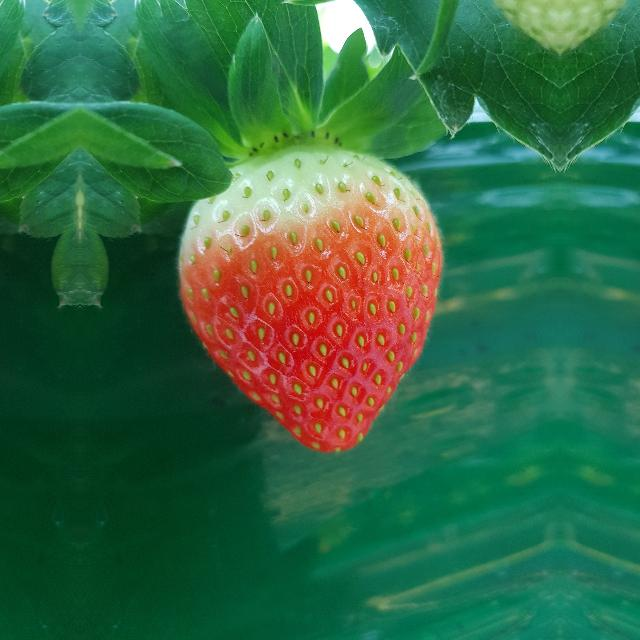Health_75: (176, 142, 444, 454)
